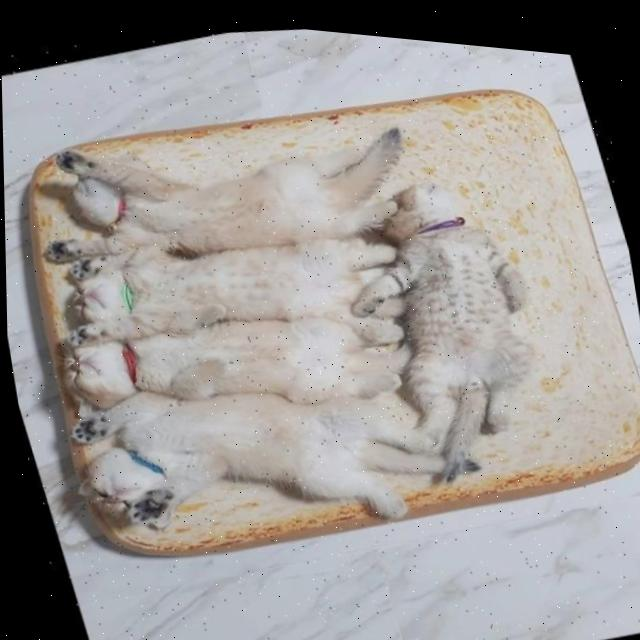Cats: (1, 43, 437, 306), (44, 339, 456, 602), (17, 175, 424, 388), (10, 257, 404, 475), (336, 125, 568, 479)
